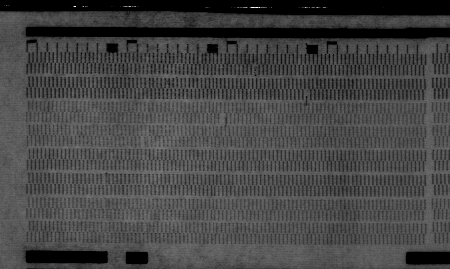Broken hole: (216, 111, 228, 123)
Oblique printing: (301, 89, 313, 104), (100, 173, 112, 186), (250, 64, 261, 78)
